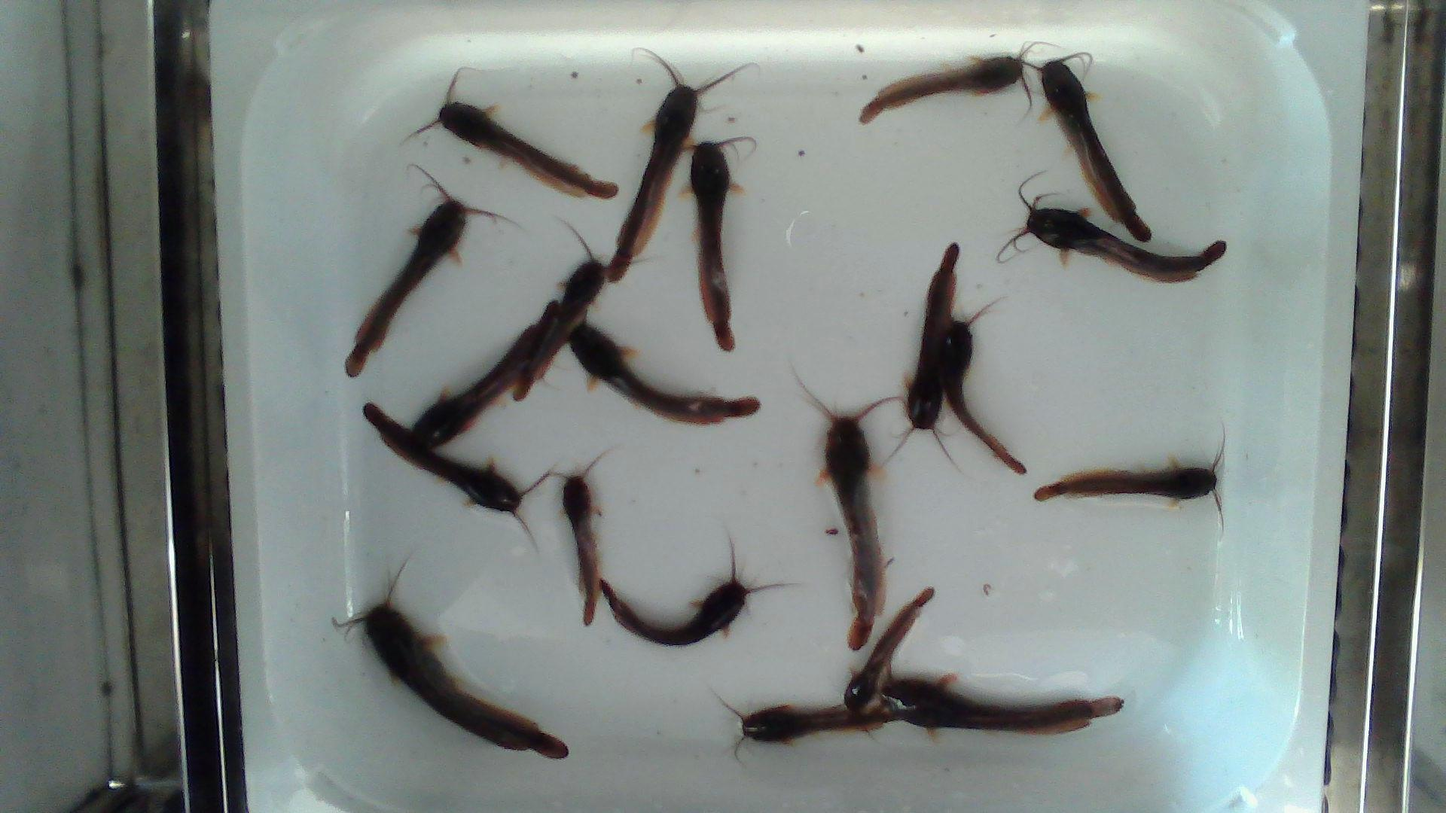lele: (361, 601, 568, 758), (411, 302, 560, 450), (346, 198, 466, 376), (1039, 59, 1149, 239), (569, 322, 759, 423), (606, 83, 697, 281), (438, 101, 617, 198), (512, 220, 608, 400), (364, 404, 523, 511), (939, 297, 1031, 476), (893, 240, 960, 471), (825, 414, 884, 649), (882, 676, 1123, 733), (1027, 209, 1225, 275), (714, 691, 892, 758), (844, 589, 932, 719), (861, 56, 1023, 123), (602, 577, 752, 645), (691, 142, 734, 350), (1035, 467, 1216, 501), (563, 475, 601, 624)
